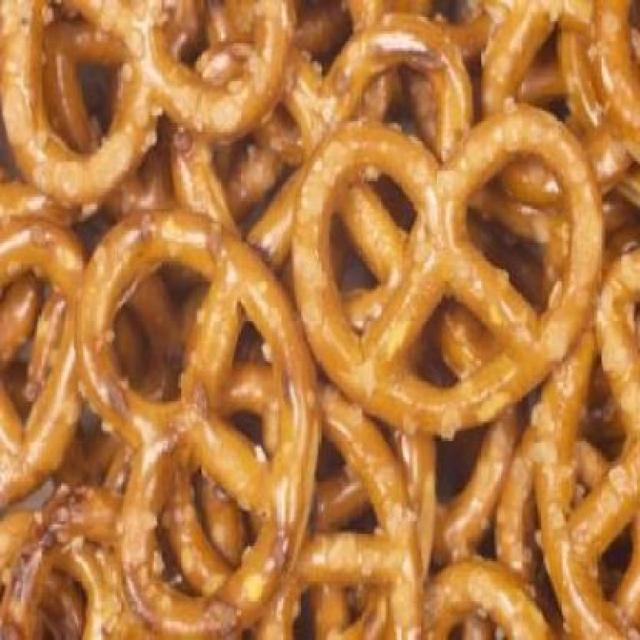Salatini packaged: (4, 4, 634, 626)
